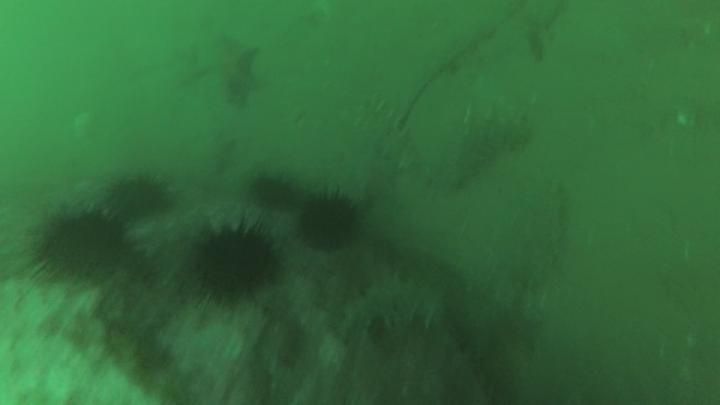echinus: (32, 205, 129, 283), (191, 221, 280, 303), (296, 188, 364, 253), (105, 170, 176, 221), (248, 170, 300, 211)
holothurian: (441, 106, 532, 191), (341, 274, 450, 336), (348, 96, 425, 174), (520, 177, 567, 286)
starfish: (191, 34, 265, 108)
